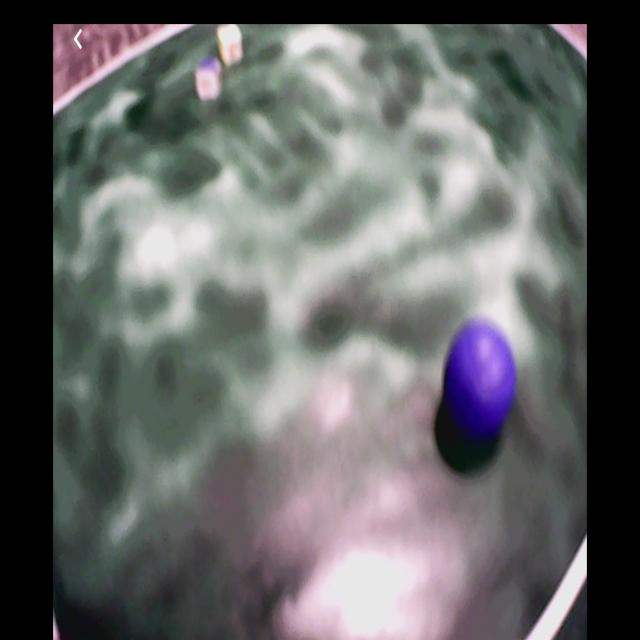ball: (444, 321, 517, 435)
